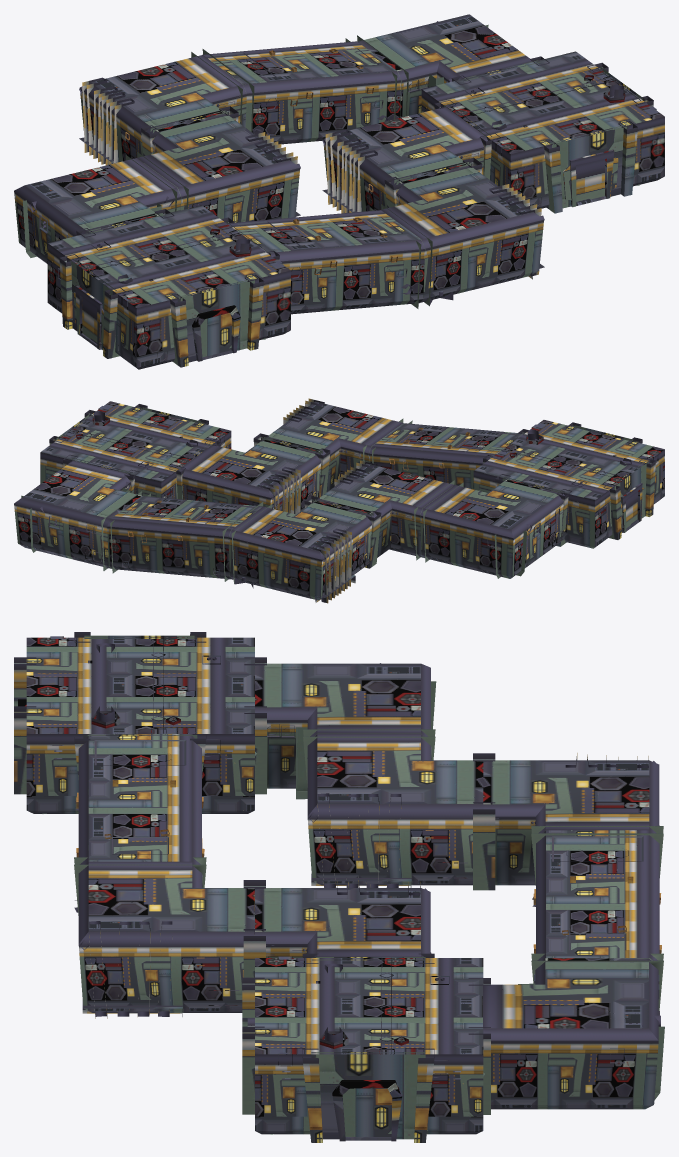
Rendered from Combined_Mesh_root_scene__0_a34a996a__zombies2_diffuse_07_65562b6b_c1f257.obj.
3 views of the same model, one above another, from view 1: azimuth 30°, elevation 25°; view 2: azimuth 150°, elevation 25°; view 3: azimuth 270°, elevation 25° (orthographic). The views are drawn at different scales.
Size of the model in its own units: 81.89 by 12.64 by 57.04.
Materials: 170 (170 with a texture image).
